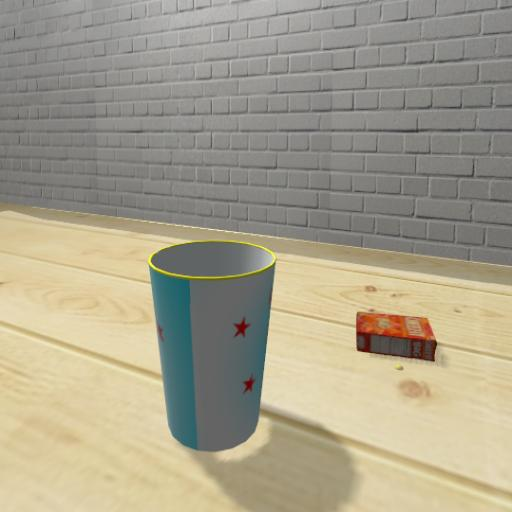BOX_R: (334, 264, 466, 402)
Trash: (126, 216, 303, 490)
